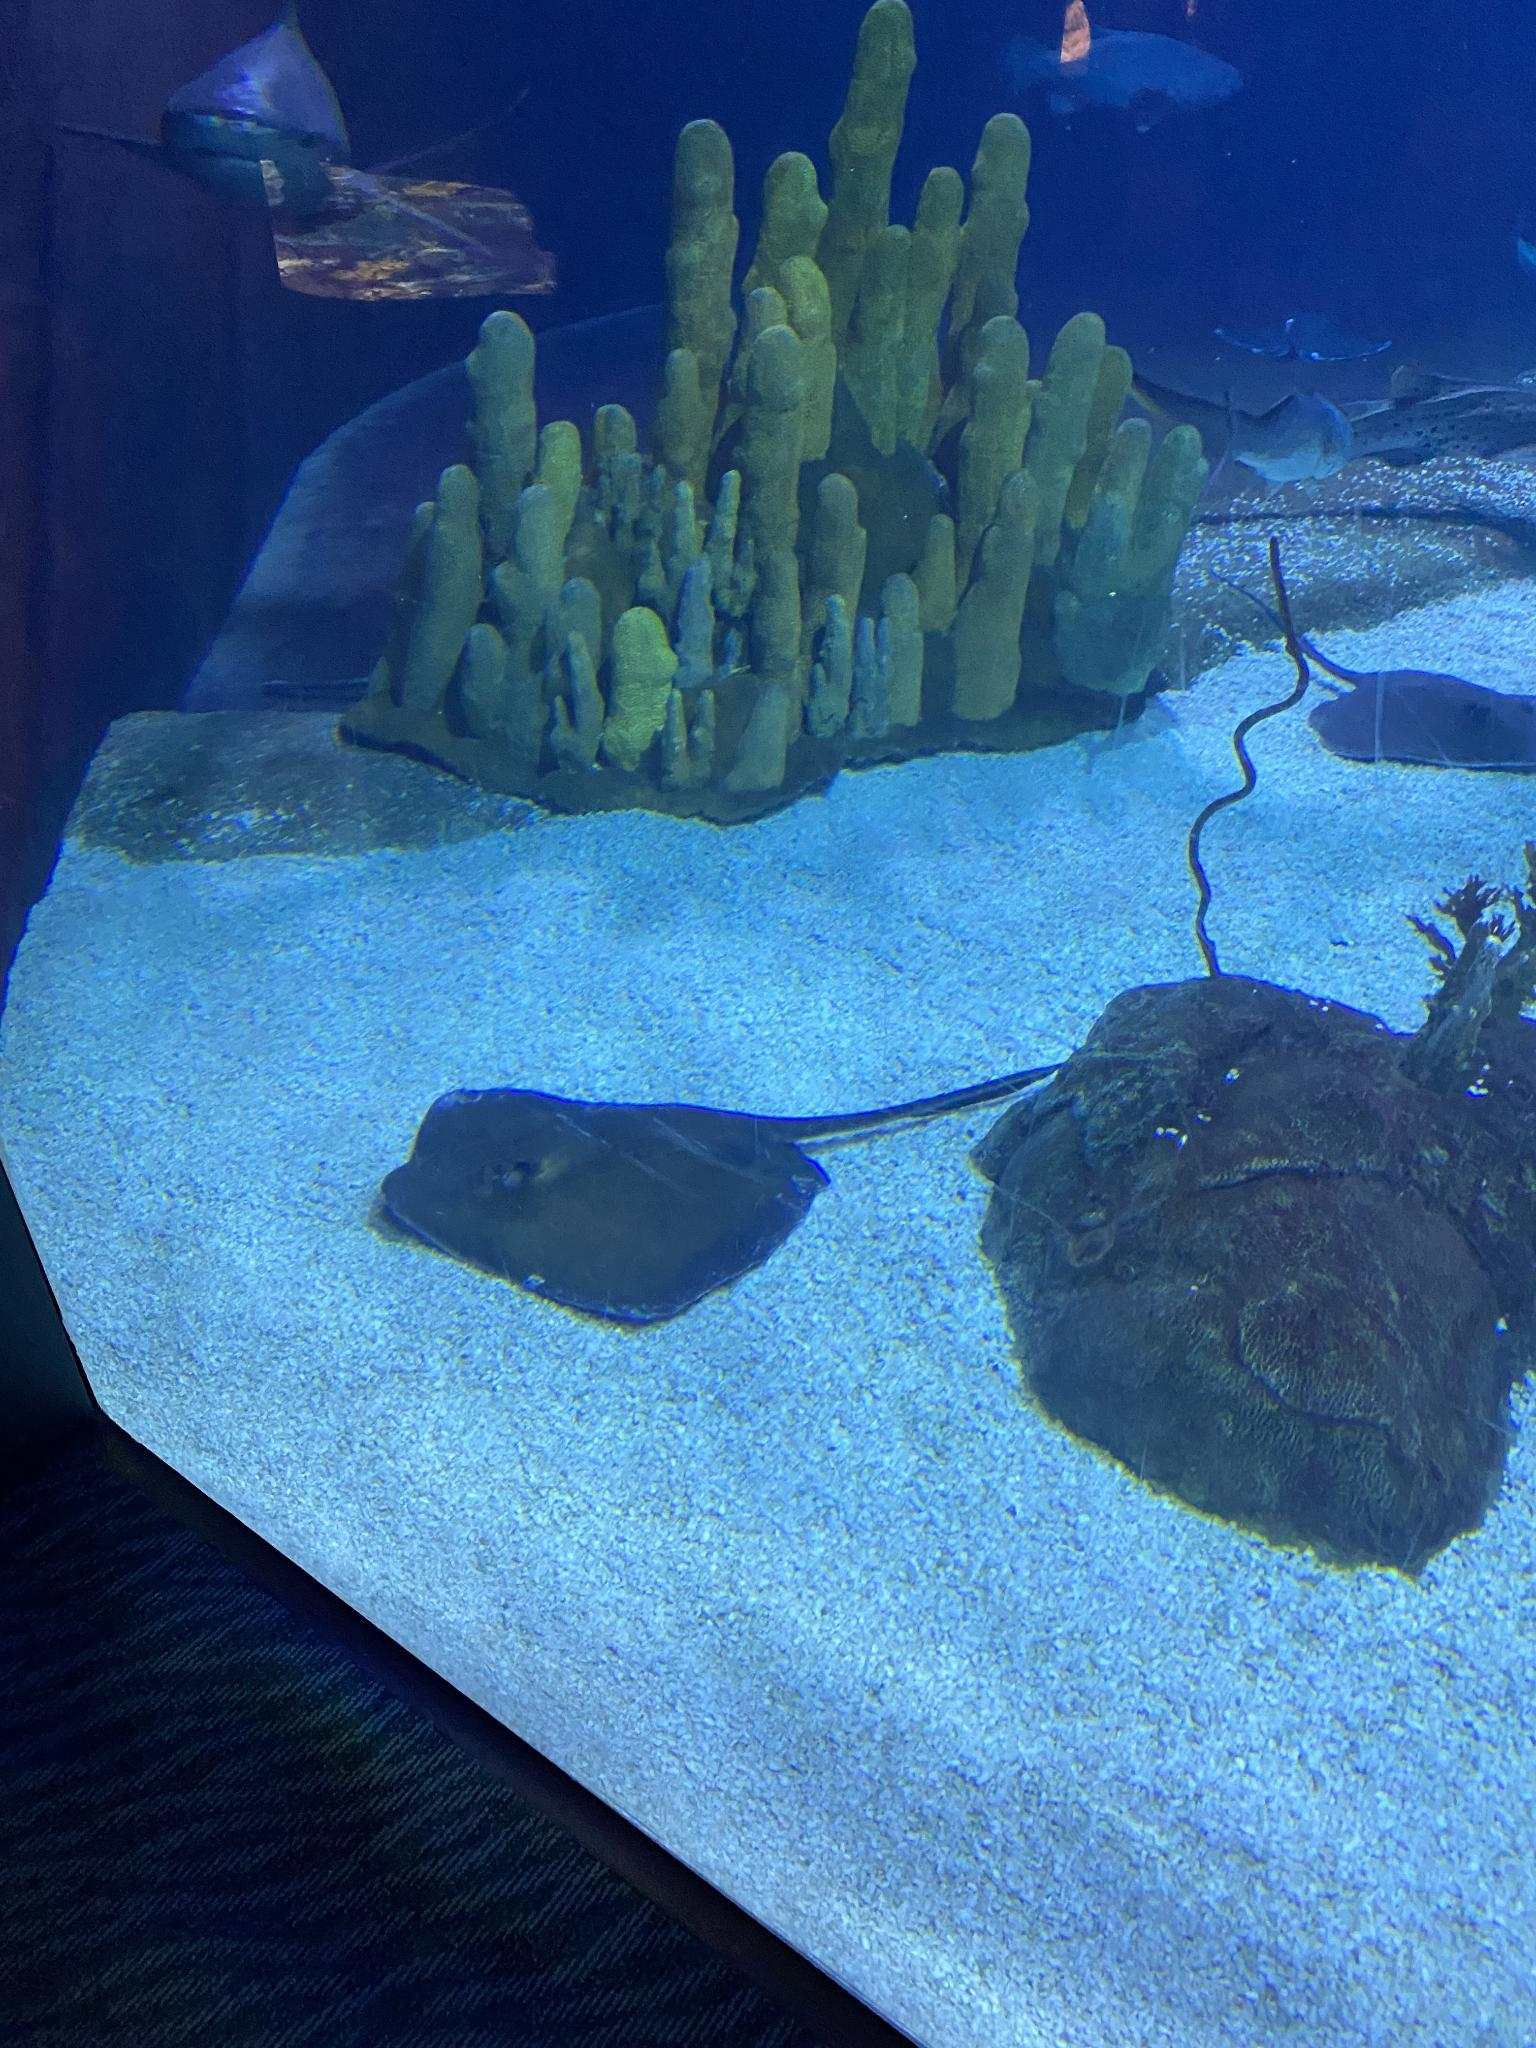fish: (999, 26, 1246, 124)
shark: (68, 8, 447, 218)
stingray: (371, 1084, 829, 1326), (1304, 668, 1534, 771)
